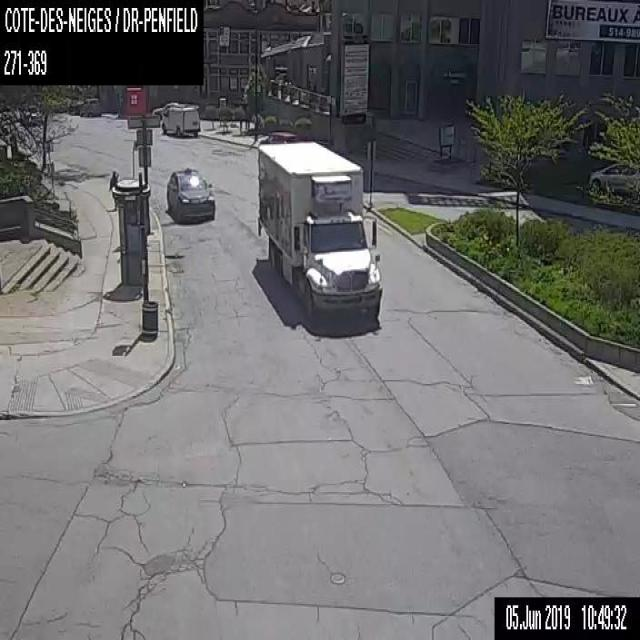pedestrian: (108, 169, 118, 207)
vehicle: (255, 139, 382, 320), (166, 168, 213, 225), (589, 158, 639, 196), (161, 104, 200, 138), (152, 101, 185, 119), (78, 96, 102, 116), (19, 103, 40, 125)
